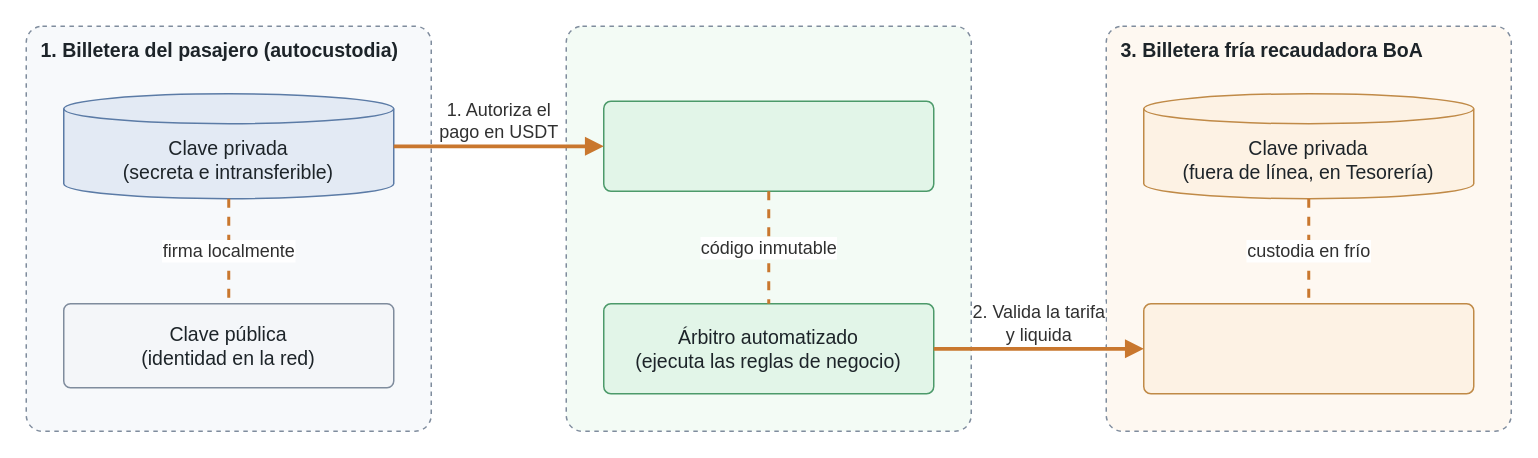
The diagram is 1538 pixels wide and 458 high, and some of its shapes have lost their labels. The box of each missing label's shape, as (x1, y1, x2, y2) in pixels:
2. Contrato inteligente BoAPayments: (565, 25, 971, 431)
Destino final (billetera institucional): (1142, 302, 1474, 394)
Dirección pública (desplegado en la red Polygon): (602, 100, 934, 191)
